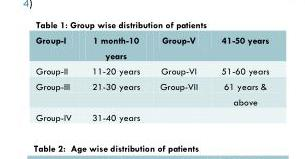table: (35, 34, 268, 122)
table column: (80, 34, 149, 122), (208, 34, 268, 122), (149, 34, 208, 122), (35, 34, 80, 122)
table column header: (35, 34, 268, 62)
table row: (35, 78, 268, 109), (35, 34, 268, 62), (35, 62, 268, 78), (35, 109, 268, 122)
